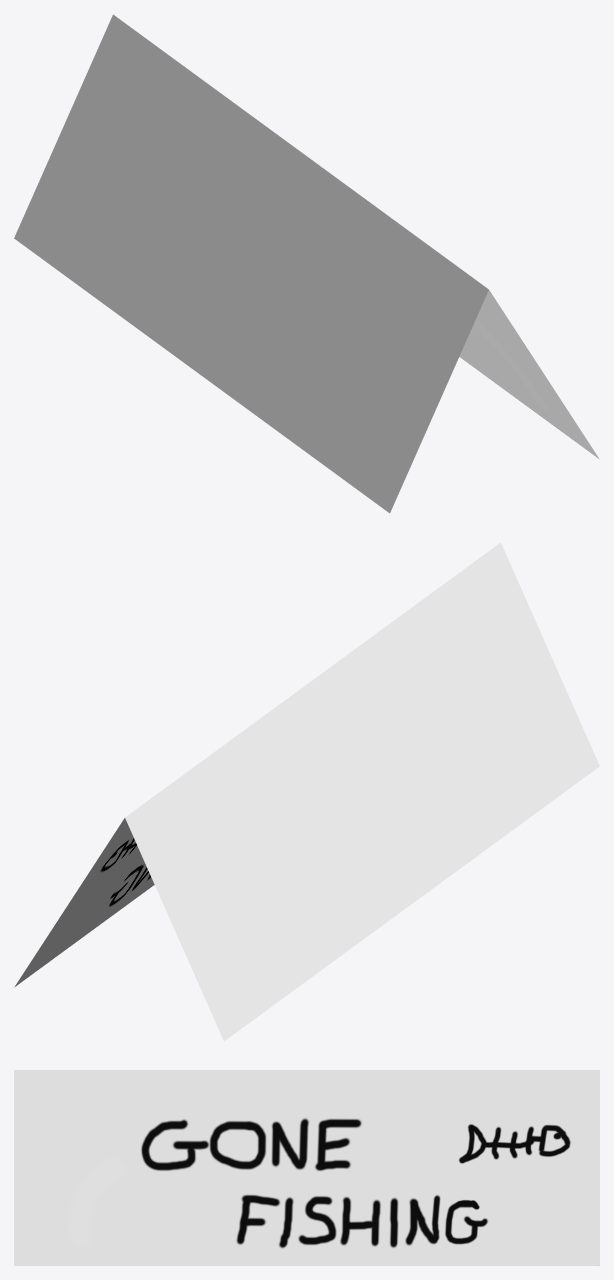
Rendered from gone_fishing.glb.
The picture shows the model from 3 angles, top to bottom: view 1: azimuth 30°, elevation 25°; view 2: azimuth 150°, elevation 25°; view 3: azimuth 270°, elevation 25°; orthographic projection. The views are drawn at different scales.
Visible parts, largest first — view 1: Plane; view 2: Plane; view 3: Plane.
Part boxes in pixels (bbox=[...]): Plane: bbox=[14, 14, 599, 513]; Plane: bbox=[14, 542, 599, 1041]; Plane: bbox=[14, 1070, 599, 1265].
Bounding box in the file's own units: 0.0765 × 0.0695 × 0.237.
1 material, 1 textured.
